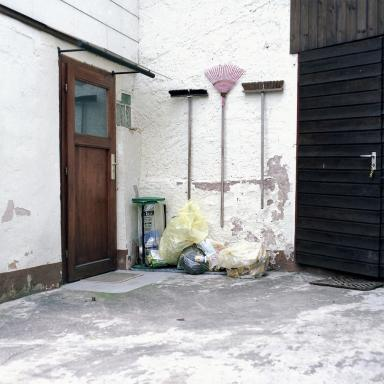plasticbag: (157, 200, 211, 264), (136, 201, 164, 261), (214, 234, 262, 265), (223, 256, 272, 282), (174, 244, 210, 276), (195, 225, 223, 260)
